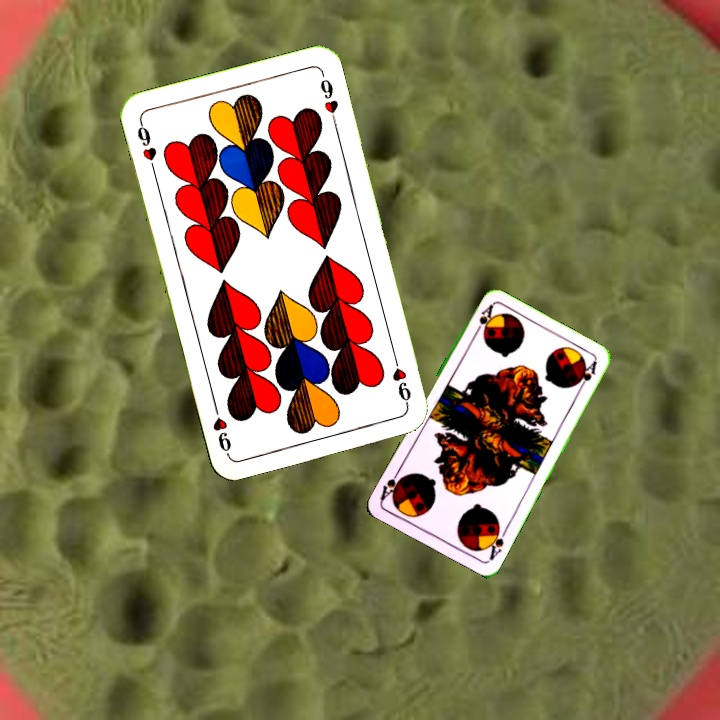H9: (133, 117, 159, 175), (388, 350, 414, 408)
SA: (482, 521, 510, 563), (470, 301, 495, 339)
